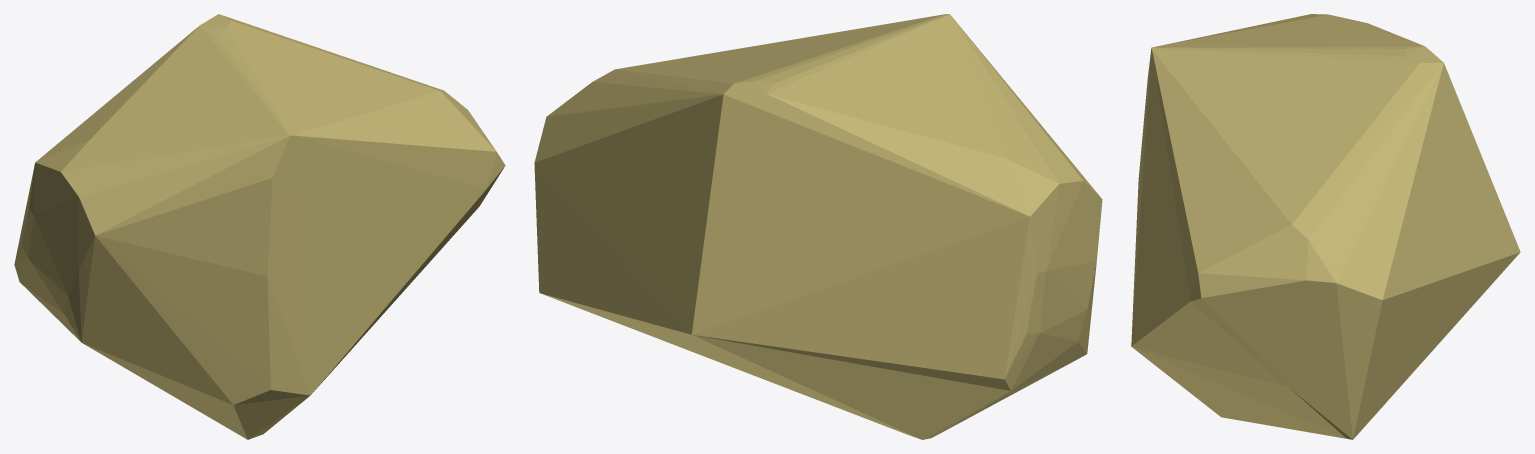
File: steeringSystem_steering_gearbox_a01.glb
3 views of the same model, side by side, from view 1: azimuth 30°, elevation 25°; view 2: azimuth 150°, elevation 25°; view 3: azimuth 270°, elevation 25° (orthographic). The views are drawn at different scales.
Visible parts, largest first — view 1: geometry_0; view 2: geometry_0; view 3: geometry_0.
Part boxes in pixels (x1,y1,x2,y2): geometry_0: (14, 14, 505, 439); geometry_0: (534, 14, 1102, 439); geometry_0: (1131, 14, 1520, 439).
Size of the model in its own units: 0.48 by 0.3722 by 0.34.
